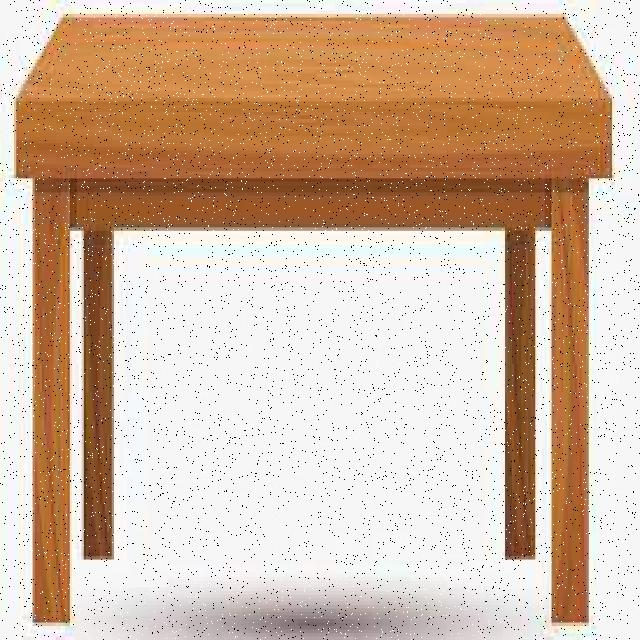mobile-phone: (14, 11, 616, 626)
